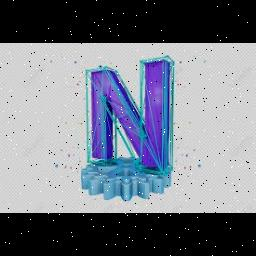n: (80, 52, 180, 176)
